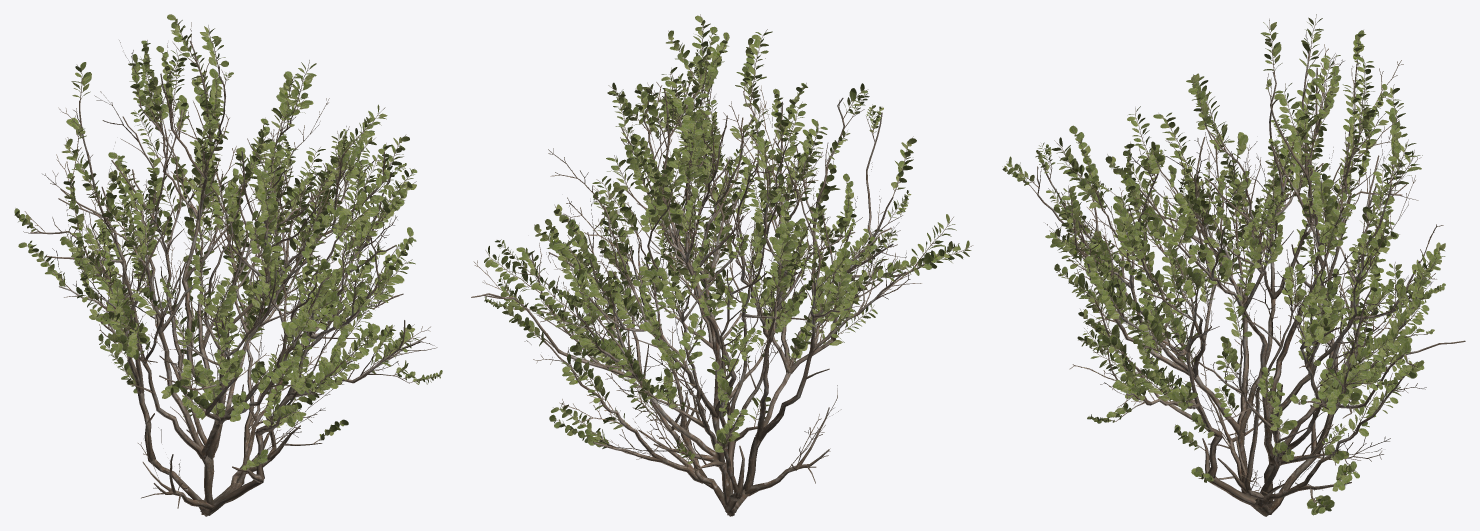
Rendered from UE_searsia_lucida_a.gltf.
3 renders of one model, left to right at view 1: azimuth 30°, elevation 25°; view 2: azimuth 150°, elevation 25°; view 3: azimuth 270°, elevation 25°, orthographic. The views are drawn at different scales.
Parts seen in each view (by area): view 1: searsia_lucida_a; view 2: searsia_lucida_a; view 3: searsia_lucida_a.
Boxes of the visible parts, x1=… form: searsia_lucida_a: x1=14, y1=14, x2=442, y2=516; searsia_lucida_a: x1=471, y1=14, x2=973, y2=516; searsia_lucida_a: x1=1002, y1=14, x2=1465, y2=516.
Size of the model in its own units: 1.81 by 2.34 by 1.97.
Materials: 3 (3 with a texture image).
